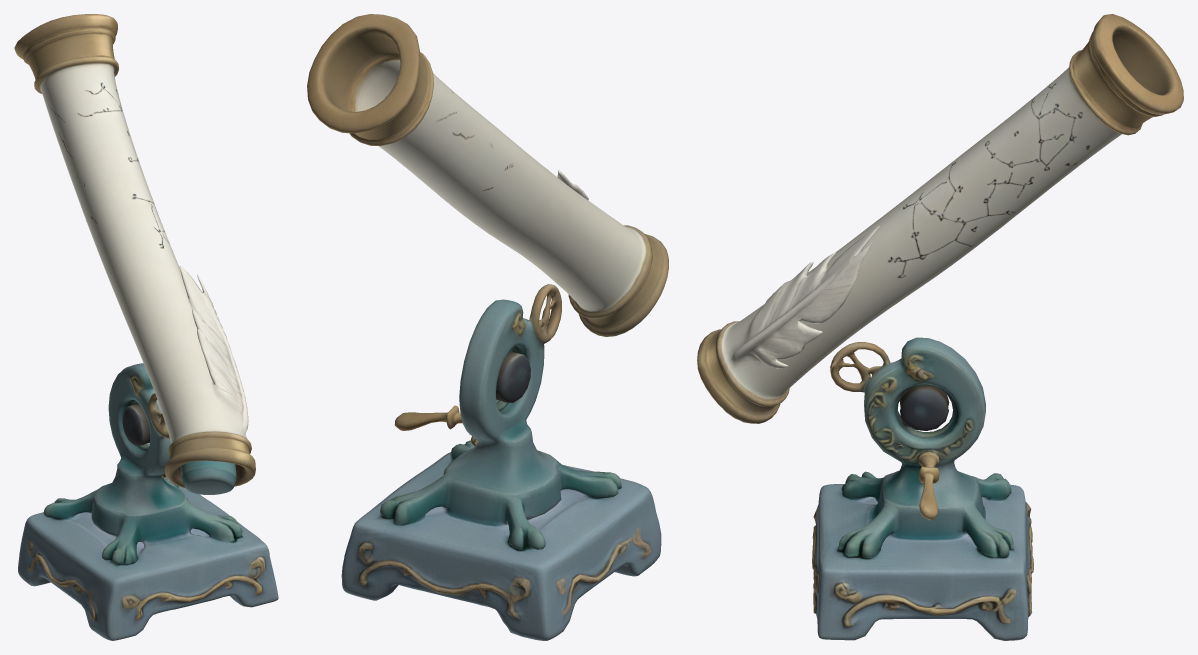
Rendered from telescope-source.glb.
3 renders of one model, left to right at view 1: azimuth 30°, elevation 25°; view 2: azimuth 150°, elevation 25°; view 3: azimuth 270°, elevation 25°, orthographic. The views are drawn at different scales.
Parts seen in each view (by area): view 1: model; view 2: model; view 3: model.
Boxes of the visible parts, x1,y1,x2,y2 form: model: [14, 14, 278, 640]; model: [307, 14, 668, 640]; model: [697, 14, 1183, 640].
Size of the model in its own units: 0.6861 by 1.9 by 1.44.
Materials: 1 (1 with a texture image).
